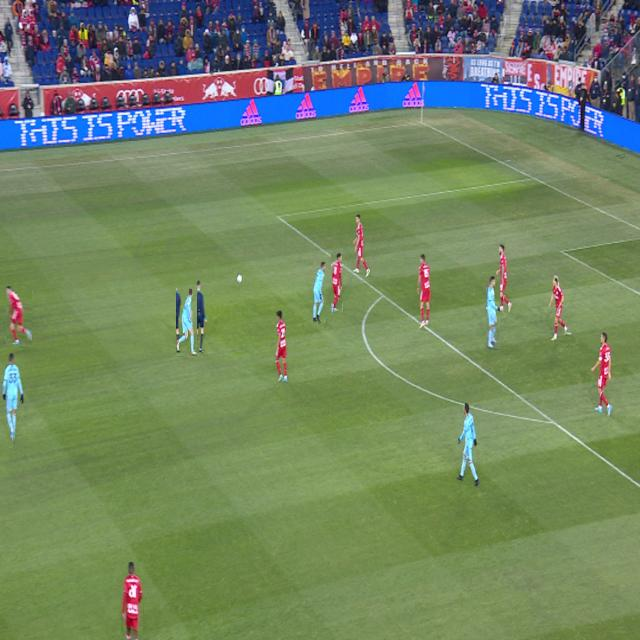football: (237, 274, 242, 283)
player: (457, 402, 480, 486), (3, 354, 24, 441), (591, 333, 612, 417), (122, 563, 143, 639), (6, 287, 32, 345), (177, 288, 197, 356), (549, 275, 569, 340), (496, 245, 512, 313), (353, 214, 370, 277), (417, 255, 431, 329), (486, 277, 500, 349), (275, 311, 288, 383), (313, 263, 326, 323), (332, 253, 342, 313)
referee: (193, 281, 208, 353)
